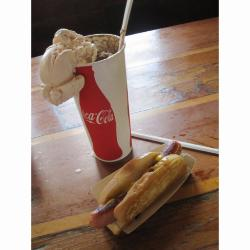hotdog: (85, 140, 198, 235)
icecream: (42, 29, 98, 110)
